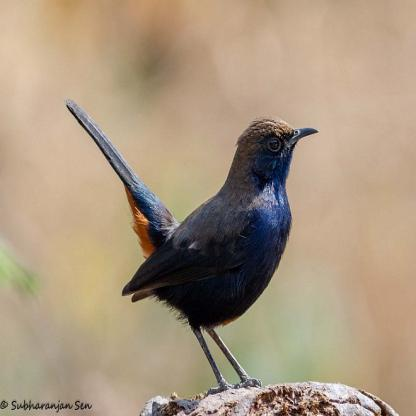Burung: (65, 96, 318, 392)
